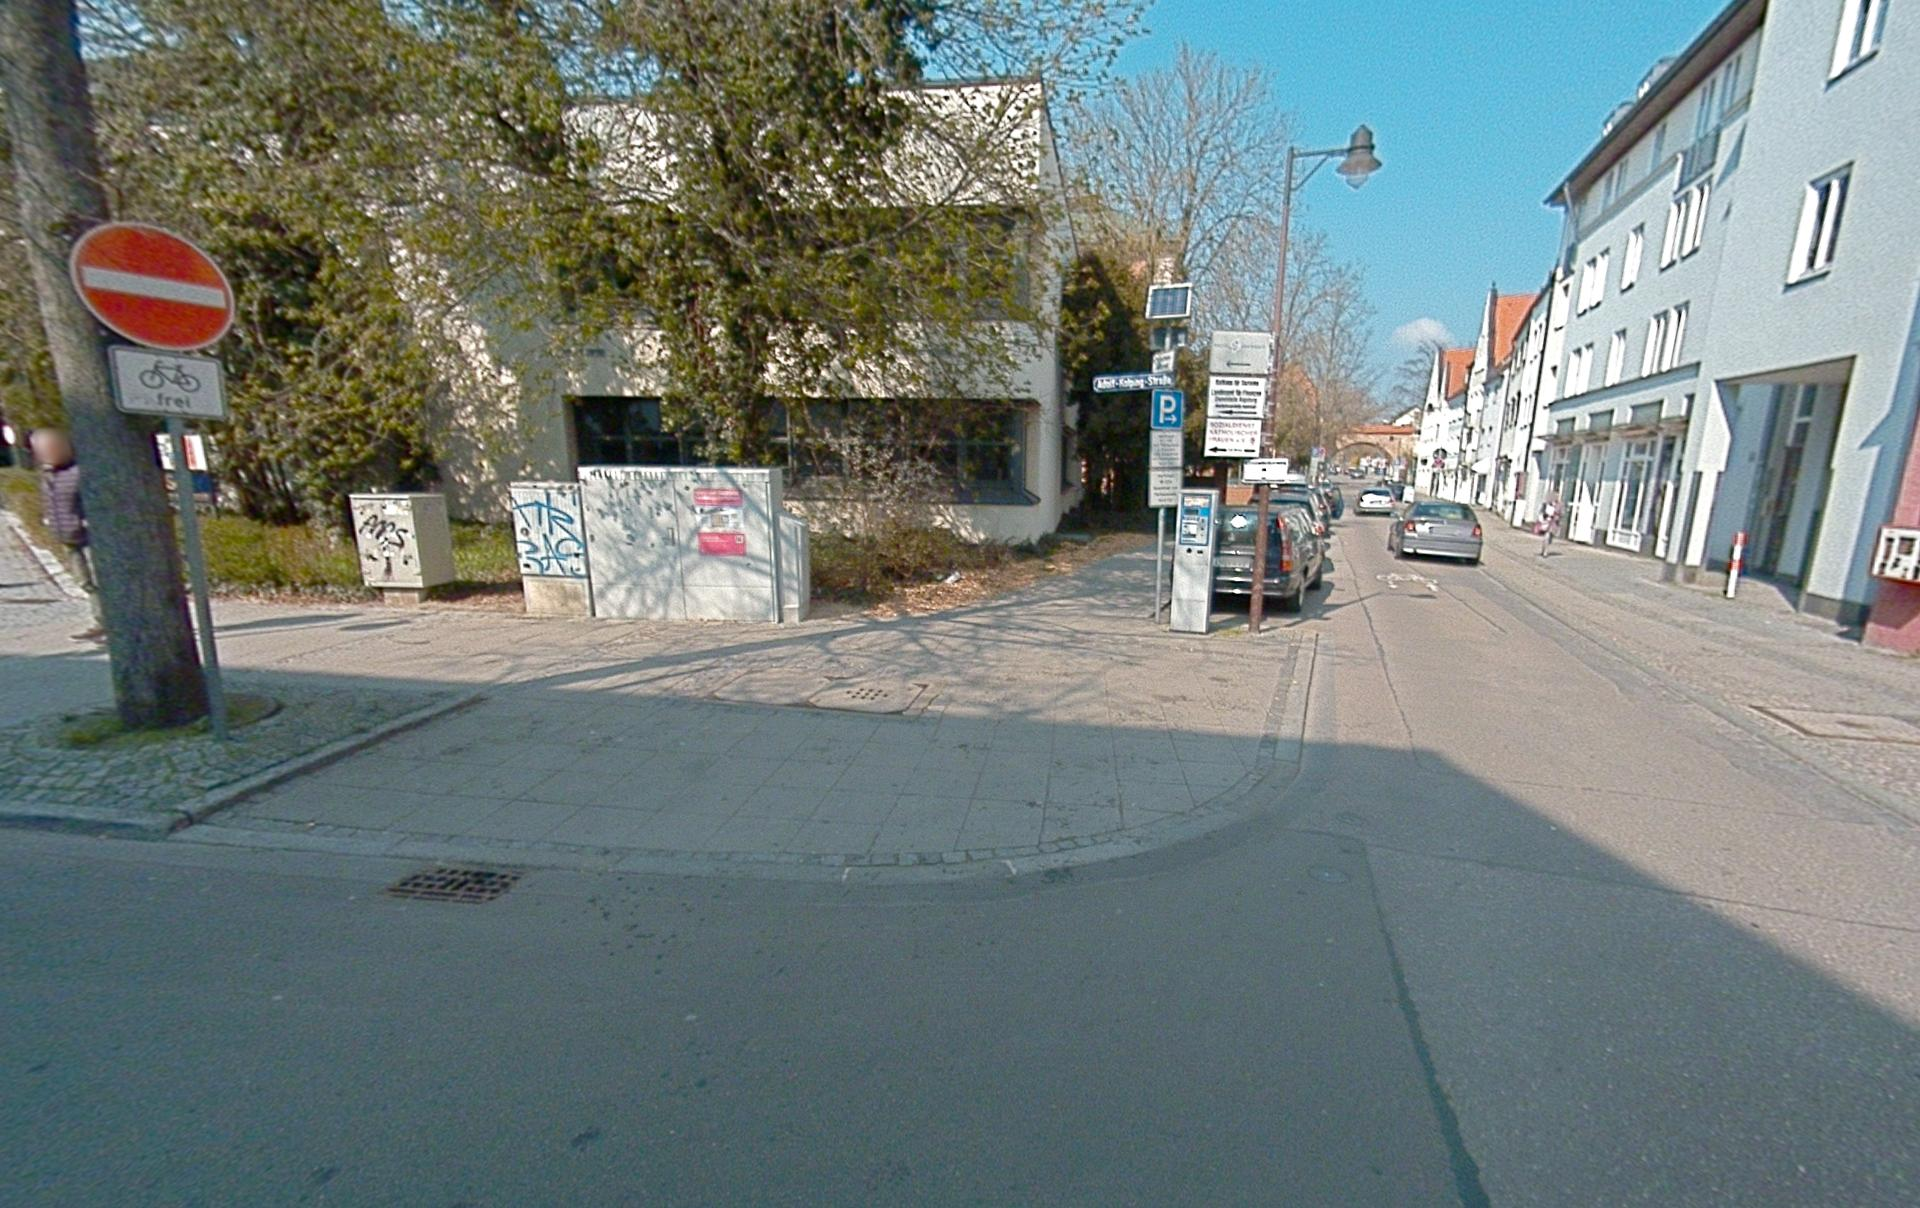car: (1387, 500, 1482, 564), (1355, 487, 1395, 514)
